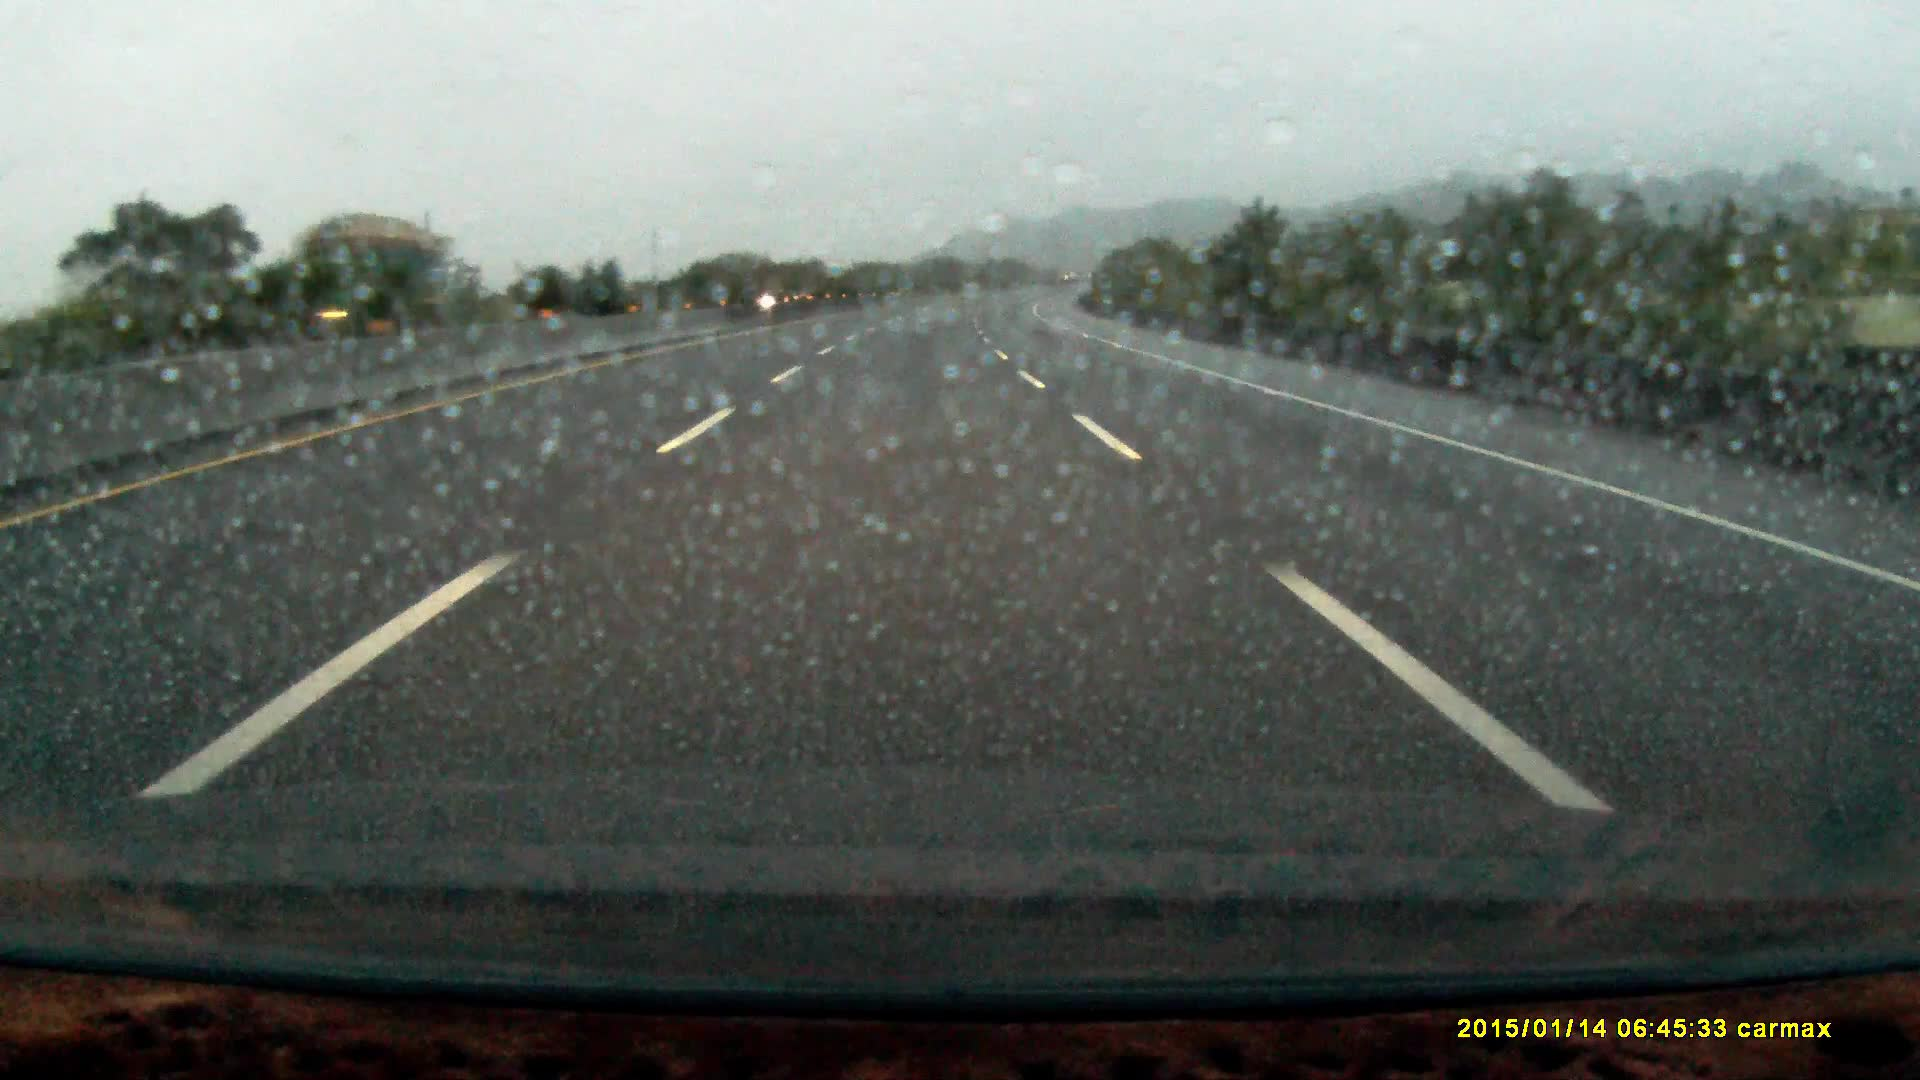vehicle: (272, 214, 442, 338)
